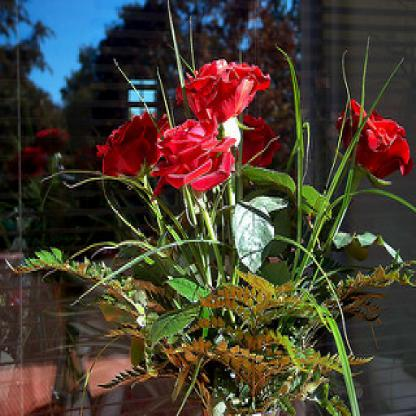ROSE-MAWAR: (96, 48, 416, 198)
